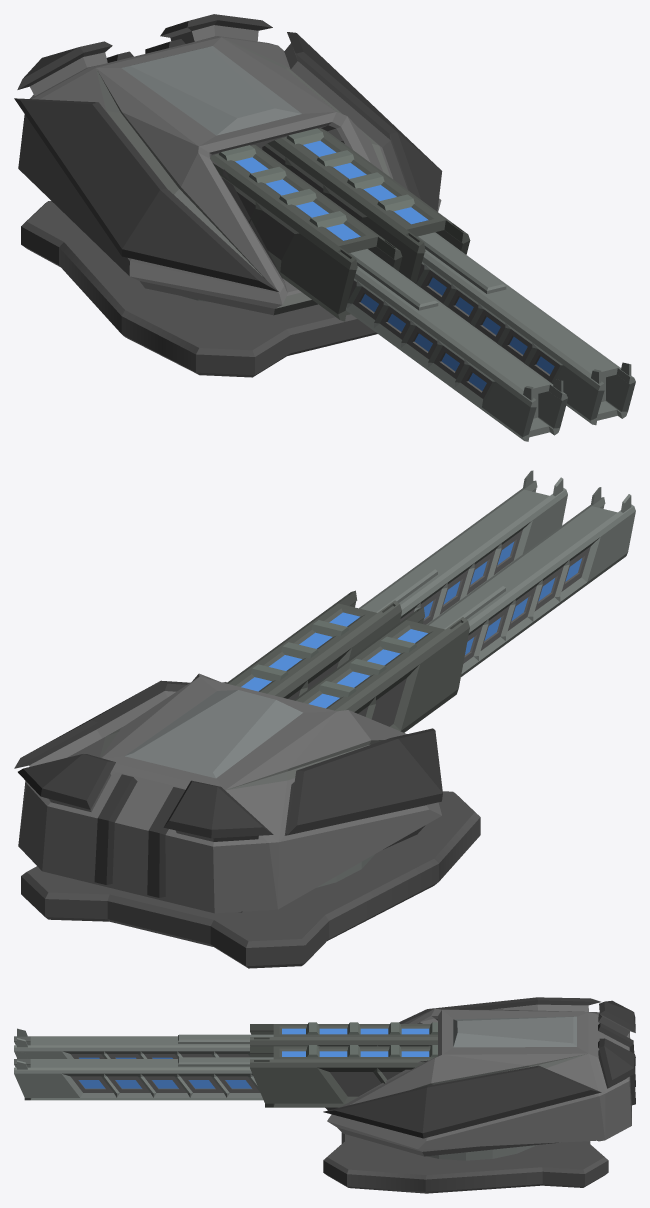
File: model_polyfleet_battleship_railgun6.fbx
3 renders of one model, top to bottom at view 1: azimuth 30°, elevation 25°; view 2: azimuth 150°, elevation 25°; view 3: azimuth 270°, elevation 25°, orthographic. The views are drawn at different scales.
Visible parts, largest first — view 1: model_weapon_rotate, model_railgun_barrel_front (×2), model_polyfleet_battleship_railgun6, model_railgun_barrel_left, model_railgun_barrel_right, emissive (×4); view 2: model_weapon_rotate, model_polyfleet_battleship_railgun6, model_railgun_barrel_front (×2), model_railgun_barrel_left, model_railgun_barrel_right, emissive (×3); view 3: model_weapon_rotate, model_railgun_barrel_front (×2), model_polyfleet_battleship_railgun6, model_railgun_barrel_right, model_railgun_barrel_left, emissive (×3).
Part boxes in pixels (x1,y1,x2,y2): model_weapon_rotate: [14, 14, 442, 315]; model_railgun_barrel_front (×2): [345, 232, 635, 441]; model_polyfleet_battleship_railgun6: [21, 201, 377, 377]; model_railgun_barrel_left: [210, 145, 402, 321]; model_railgun_barrel_right: [262, 128, 470, 283]; emissive (×4): [235, 140, 554, 390]; model_weapon_rotate: [14, 673, 442, 913]; model_polyfleet_battleship_railgun6: [21, 791, 480, 968]; model_railgun_barrel_front (×2): [359, 470, 635, 676]; model_railgun_barrel_left: [294, 607, 469, 732]; model_railgun_barrel_right: [226, 590, 401, 700]; emissive (×3): [241, 558, 582, 708]; model_weapon_rotate: [323, 997, 635, 1160]; model_railgun_barrel_front (×2): [14, 1028, 273, 1100]; model_polyfleet_battleship_railgun6: [323, 1107, 608, 1193]; model_railgun_barrel_right: [250, 1045, 437, 1107]; model_railgun_barrel_left: [250, 1022, 437, 1046]; emissive (×3): [79, 1028, 429, 1088].
Bounding box in the file's own units: 257 × 133 × 636.
